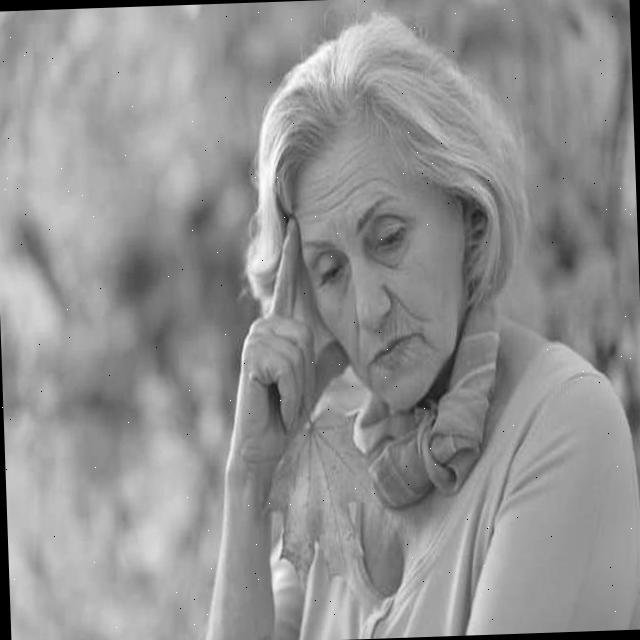Sadness: (291, 119, 456, 414)
